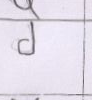ai_matra: (13, 0, 45, 18)
